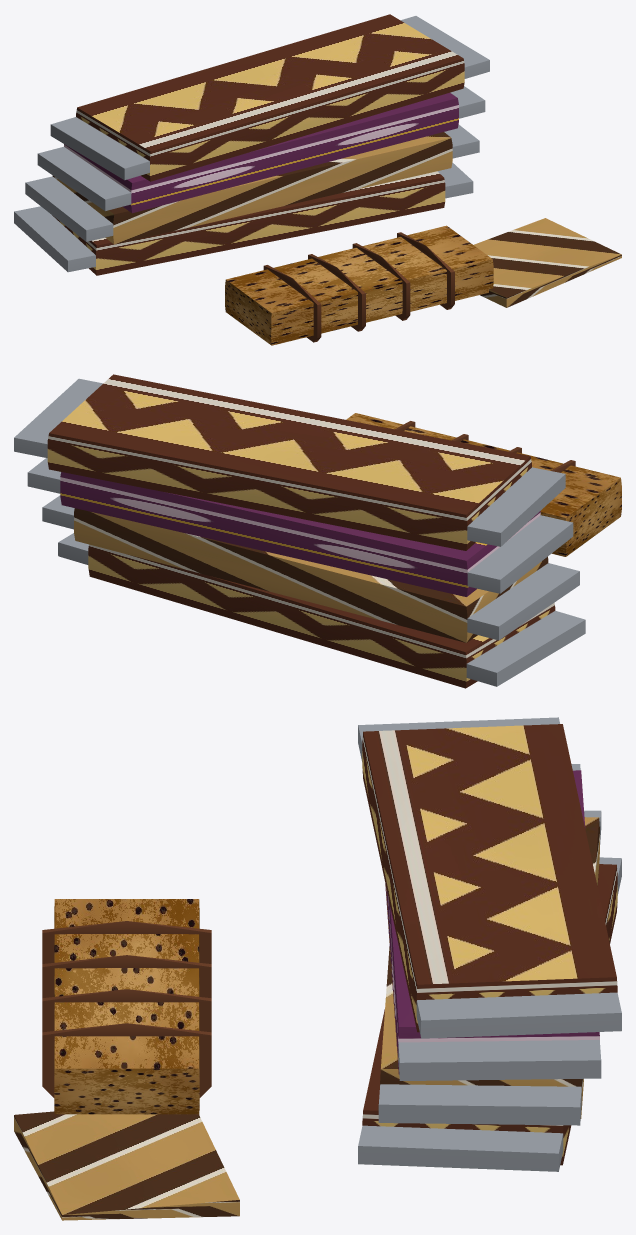
The model's file is ration_protein_bars_stack.glb.
3 renders of one model, top to bottom at view 1: azimuth 30°, elevation 25°; view 2: azimuth 150°, elevation 25°; view 3: azimuth 270°, elevation 25°, orthographic. The views are drawn at different scales.
Visible parts, largest first — view 1: ration_protein_bars_stack; view 2: ration_protein_bars_stack; view 3: ration_protein_bars_stack.
Part boxes in pixels (x1=…): ration_protein_bars_stack: x1=14, y1=14, x2=621, y2=345; ration_protein_bars_stack: x1=14, y1=374, x2=621, y2=688; ration_protein_bars_stack: x1=14, y1=717, x2=621, y2=1220.
Size of the model in its own units: 0.1978 by 0.058 by 0.1507.
6 materials, 4 textured.
